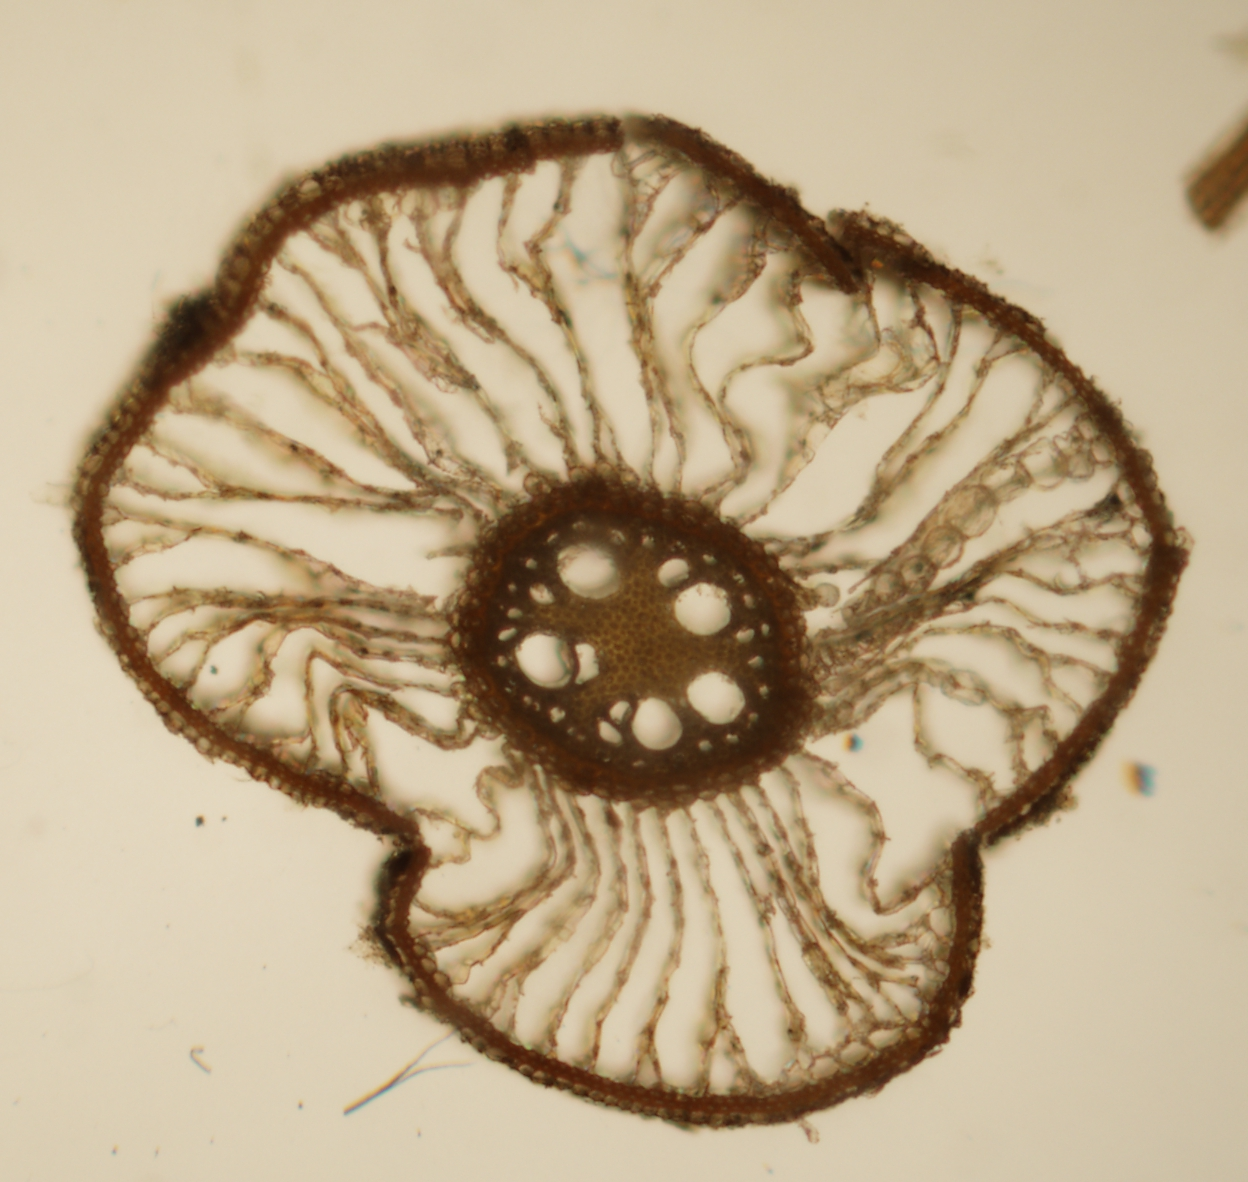lm: (657, 558, 731, 637), (516, 630, 600, 689), (599, 697, 683, 749), (556, 541, 622, 599), (687, 672, 746, 725)
